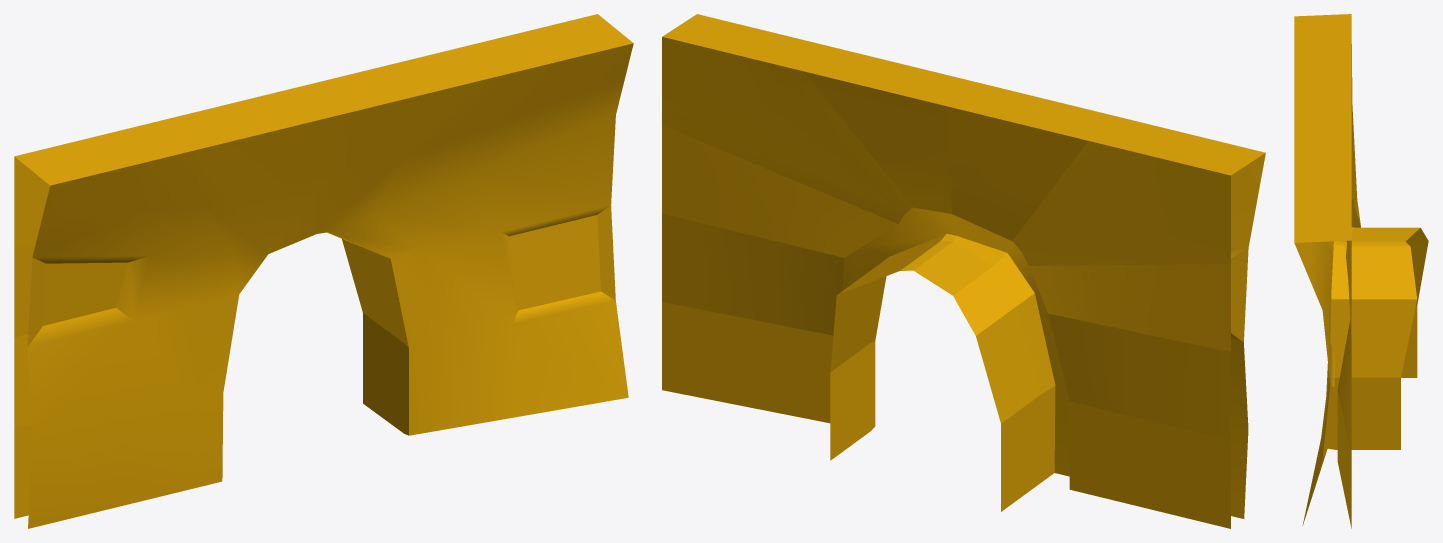
The model's file is m_minewallhole.fbx.
The picture shows the model from 3 angles, left to right: view 1: azimuth 30°, elevation 25°; view 2: azimuth 150°, elevation 25°; view 3: azimuth 270°, elevation 25°; orthographic projection. The views are drawn at different scales.
Visible parts, largest first — view 1: m_minewallhole; view 2: m_minewallhole; view 3: m_minewallhole.
Part boxes in pixels (bbox=[...]): m_minewallhole: bbox=[14, 14, 633, 528]; m_minewallhole: bbox=[662, 14, 1265, 528]; m_minewallhole: bbox=[1294, 14, 1428, 528].
Size of the model in its own units: 8 by 4.75 by 2.01.
